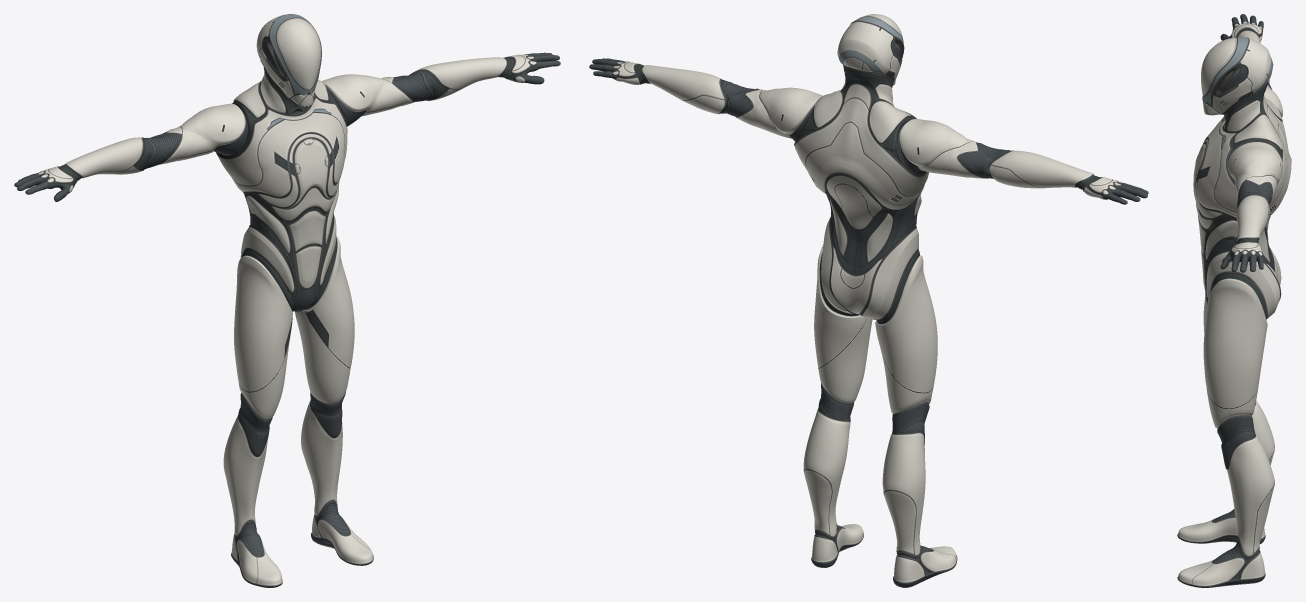
Rendered from character-test.glb.
3 renders of one model, left to right at view 1: azimuth 30°, elevation 25°; view 2: azimuth 150°, elevation 25°; view 3: azimuth 270°, elevation 25°, orthographic. The views are drawn at different scales.
Visible parts, largest first — view 1: Object_115; view 2: Object_115; view 3: Object_115.
Part boxes in pixels (box(x1,y1,x2,y2)): Object_115: box(14, 14, 560, 587); Object_115: box(589, 14, 1148, 587); Object_115: box(1177, 14, 1291, 587).
Bounding box in the file's own units: 1.9 × 1.81 × 0.3582.
Materials: 2 (2 with a texture image).
